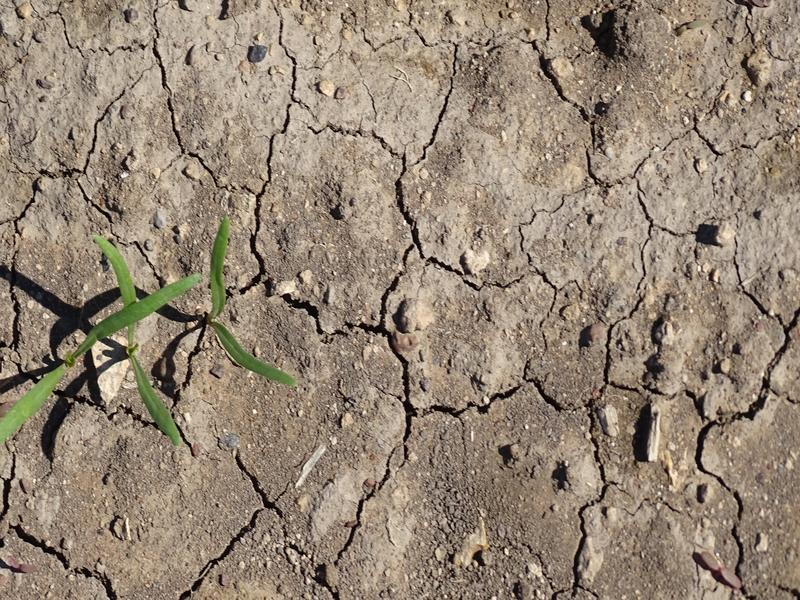Espinaca: (5, 221, 199, 449), (205, 215, 299, 389)
